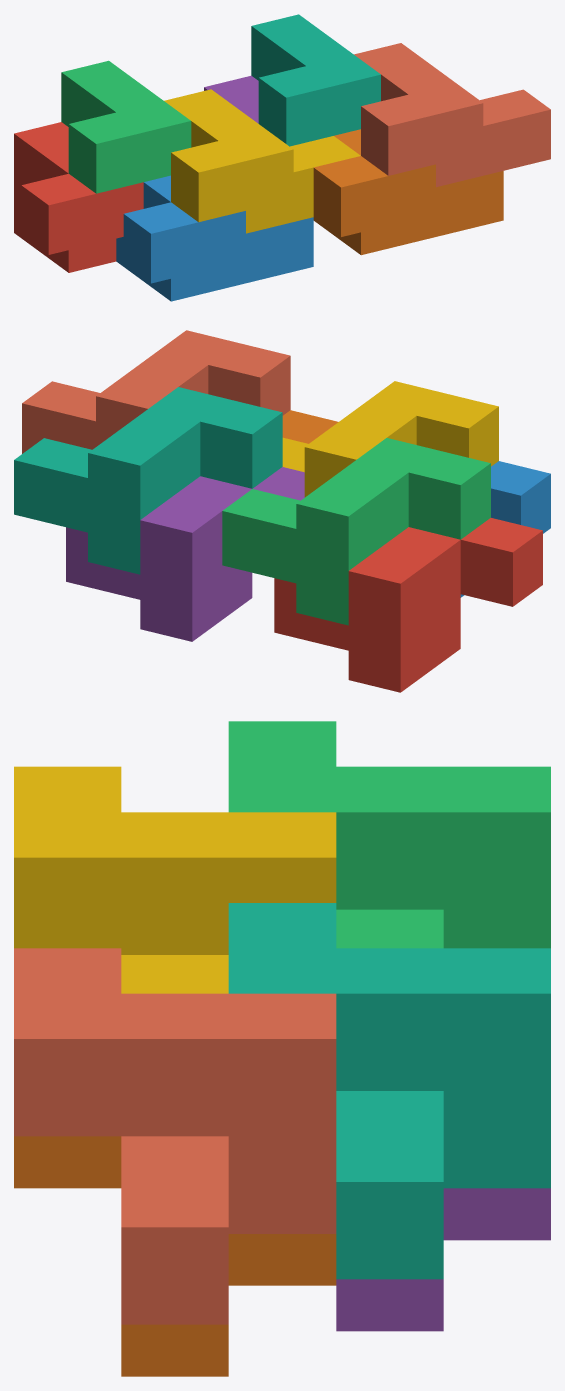
The model's file is tiling.obj.
3 renders of one model, top to bottom at view 1: azimuth 30°, elevation 25°; view 2: azimuth 150°, elevation 25°; view 3: azimuth 270°, elevation 25°, orthographic. The views are drawn at different scales.
Visible parts, largest first — view 1: copy_1_domain_8, copy_1_domain_4, copy_1_domain_2, copy_1_domain_6, copy_1_domain_3, copy_1_domain_7, copy_1_domain_1, copy_1_domain_5; view 2: copy_1_domain_7, copy_1_domain_3, copy_1_domain_1, copy_1_domain_5, copy_1_domain_8, copy_1_domain_4, copy_1_domain_2, copy_1_domain_6; view 3: copy_1_domain_8, copy_1_domain_7, copy_1_domain_3, copy_1_domain_4, copy_1_domain_6, copy_1_domain_5.
Boxes of the visible parts, x1=… form: copy_1_domain_8: x1=354, y1=43, x2=550, y2=187; copy_1_domain_4: x1=164, y1=89, x2=360, y2=233; copy_1_domain_2: x1=116, y1=175, x2=313, y2=301; copy_1_domain_6: x1=313, y1=129, x2=503, y2=255; copy_1_domain_3: x1=61, y1=60, x2=191, y2=193; copy_1_domain_7: x1=251, y1=14, x2=380, y2=146; copy_1_domain_1: x1=14, y1=122, x2=143, y2=272; copy_1_domain_5: x1=204, y1=75, x2=258, y2=123; copy_1_domain_7: x1=14, y1=387, x2=282, y2=574; copy_1_domain_3: x1=222, y1=438, x2=490, y2=625; copy_1_domain_1: x1=274, y1=518, x2=542, y2=692; copy_1_domain_5: x1=66, y1=467, x2=304, y2=641; copy_1_domain_8: x1=22, y1=330, x2=290, y2=453; copy_1_domain_4: x1=282, y1=381, x2=498, y2=497; copy_1_domain_2: x1=460, y1=461, x2=550, y2=597; copy_1_domain_6: x1=282, y1=410, x2=338, y2=443; copy_1_domain_8: x1=14, y1=948, x2=336, y2=1324; copy_1_domain_7: x1=228, y1=903, x2=550, y2=1279; copy_1_domain_3: x1=228, y1=721, x2=550, y2=948; copy_1_domain_4: x1=14, y1=766, x2=336, y2=993; copy_1_domain_6: x1=14, y1=1136, x2=336, y2=1376; copy_1_domain_5: x1=336, y1=1188, x2=550, y2=1331.
Size of the model in its own units: 10 by 3 by 5.
